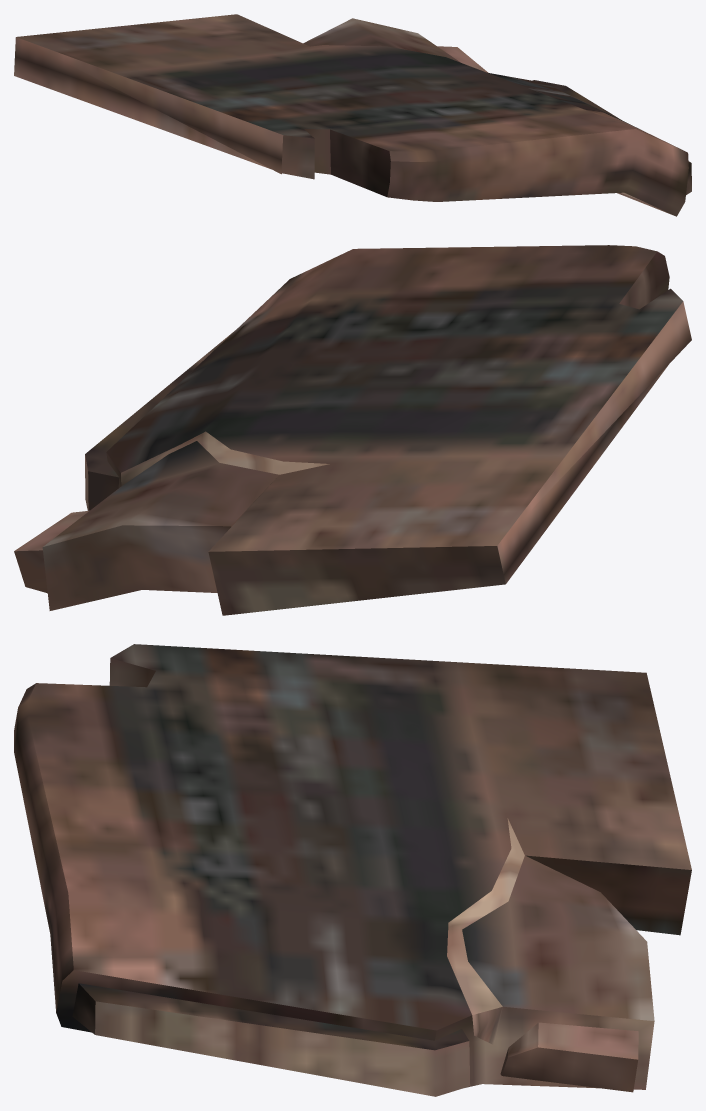
File: debris_tradefed_hulk_radial_s01_l2.fbx
3 views of the same model, one above another, from view 1: azimuth 30°, elevation 25°; view 2: azimuth 150°, elevation 25°; view 3: azimuth 270°, elevation 25° (orthographic). The views are drawn at different scales.
Parts seen in each view (by area): view 1: mesh_node; view 2: mesh_node; view 3: mesh_node.
Boxes of the visible parts, <box> form: mesh_node: <box>14,14,691,216</box>; mesh_node: <box>14,245,691,615</box>; mesh_node: <box>14,644,691,1096</box>.
Size of the model in its own units: 4.78 by 2.02 by 5.11.
Materials: 1 (1 with a texture image).
